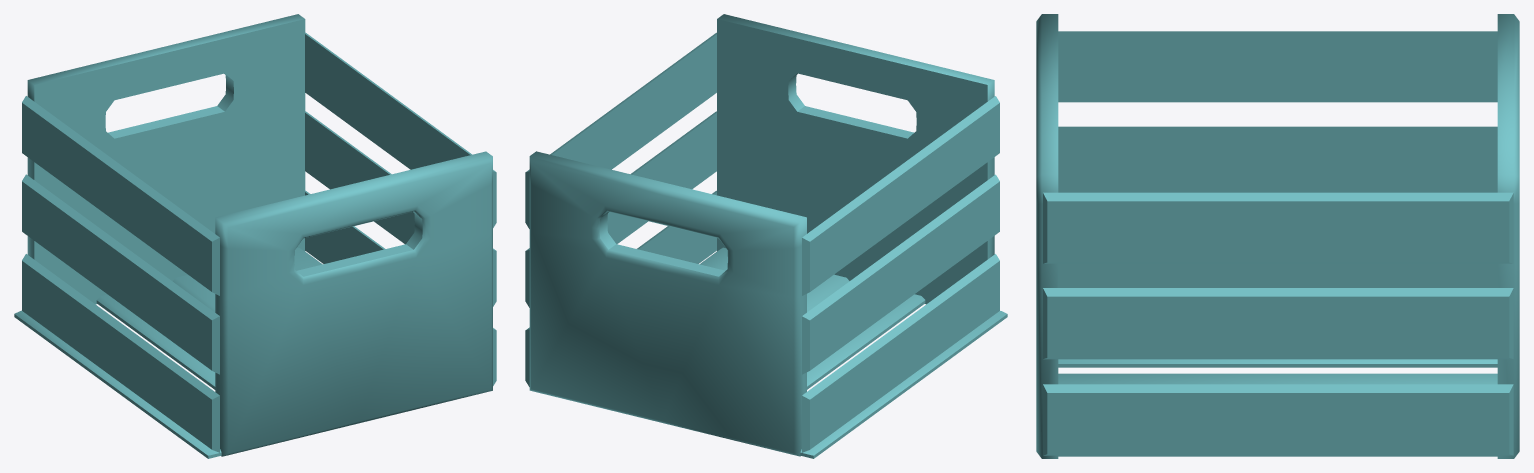
File: SM_Storage_WoodCraft.fbx
3 views of the same model, side by side, from view 1: azimuth 30°, elevation 25°; view 2: azimuth 150°, elevation 25°; view 3: azimuth 270°, elevation 25° (orthographic). The views are drawn at different scales.
Parts seen in each view (by area): view 1: SM_Storage_WoodCraft; view 2: SM_Storage_WoodCraft; view 3: SM_Storage_WoodCraft.
Boxes of the visible parts, x1,y1,x2,y2 form: SM_Storage_WoodCraft: (14,14,496,458); SM_Storage_WoodCraft: (525,14,1007,458); SM_Storage_WoodCraft: (1036,14,1519,458).
Bounding box in the file's own units: 119 × 91.87 × 141.
